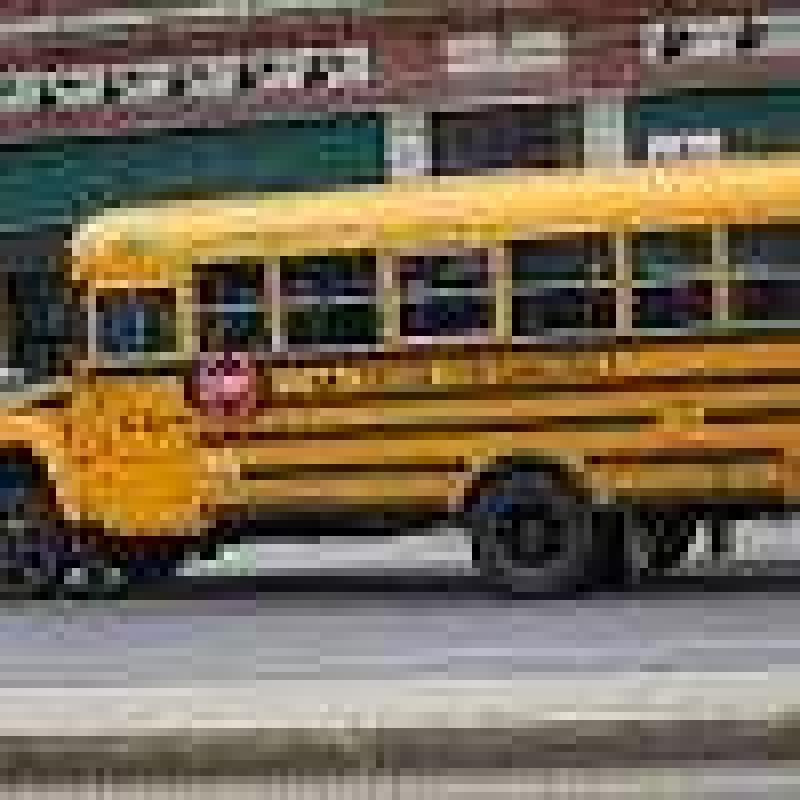bus: (56, 128, 800, 608)
